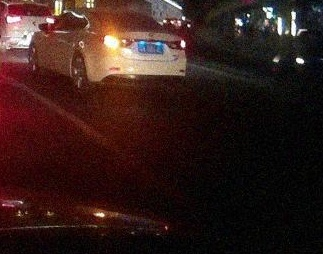L_light: (98, 34, 134, 49)
R_light: (167, 38, 186, 50)
T_light: (124, 14, 134, 18)
night-left: (93, 8, 187, 101)
